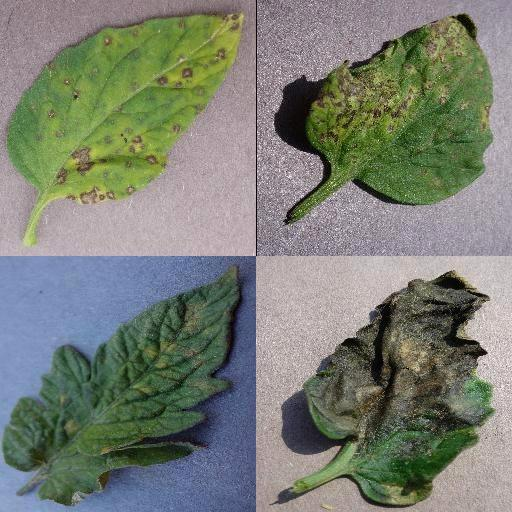Late Blight: (306, 268, 494, 508)
Leaf Mold: (3, 263, 240, 507)
Septoria: (6, 13, 246, 209), (306, 16, 494, 207)
